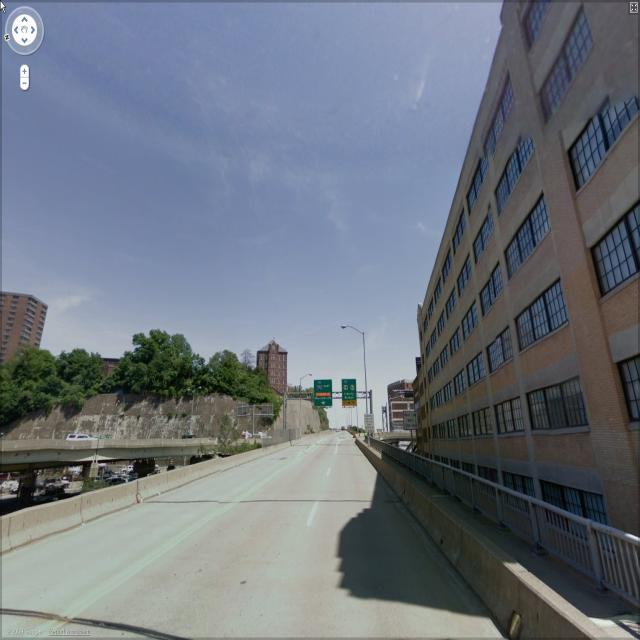b_1: (422, 12, 640, 515), (0, 284, 58, 358), (374, 377, 422, 442), (254, 340, 294, 389)
